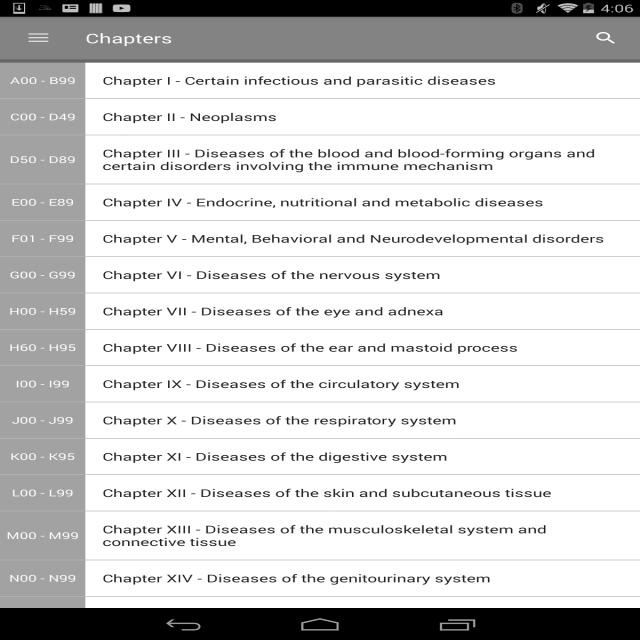ImageButton: (9, 17, 68, 59)
ImageView: (0, 557, 640, 608), (0, 98, 640, 99), (0, 220, 640, 221), (0, 256, 640, 257), (0, 329, 640, 330), (0, 365, 640, 366), (0, 438, 640, 439), (0, 474, 640, 475), (0, 596, 640, 597), (0, 135, 640, 135), (0, 184, 640, 184), (0, 293, 640, 293), (0, 402, 640, 402), (0, 511, 640, 511), (0, 560, 640, 560)
ProgressBar: (0, 59, 640, 63)
TextView: (102, 146, 623, 173), (102, 522, 623, 549), (102, 73, 623, 88), (102, 231, 623, 246), (102, 340, 623, 355), (102, 449, 623, 464), (102, 607, 623, 622), (102, 110, 623, 124), (102, 195, 623, 209), (102, 268, 623, 282), (102, 304, 623, 318), (102, 377, 623, 391), (102, 413, 623, 427), (102, 486, 623, 500), (102, 571, 623, 585), (0, 135, 85, 183), (0, 511, 85, 559), (0, 62, 85, 98), (0, 220, 85, 256), (0, 329, 85, 365), (0, 438, 85, 474), (0, 596, 85, 632), (0, 99, 85, 134), (0, 184, 85, 219), (0, 257, 85, 292), (0, 293, 85, 328), (0, 366, 85, 401), (0, 402, 85, 437), (0, 475, 85, 510), (0, 560, 85, 595), (580, 22, 632, 54), (86, 29, 172, 47)
